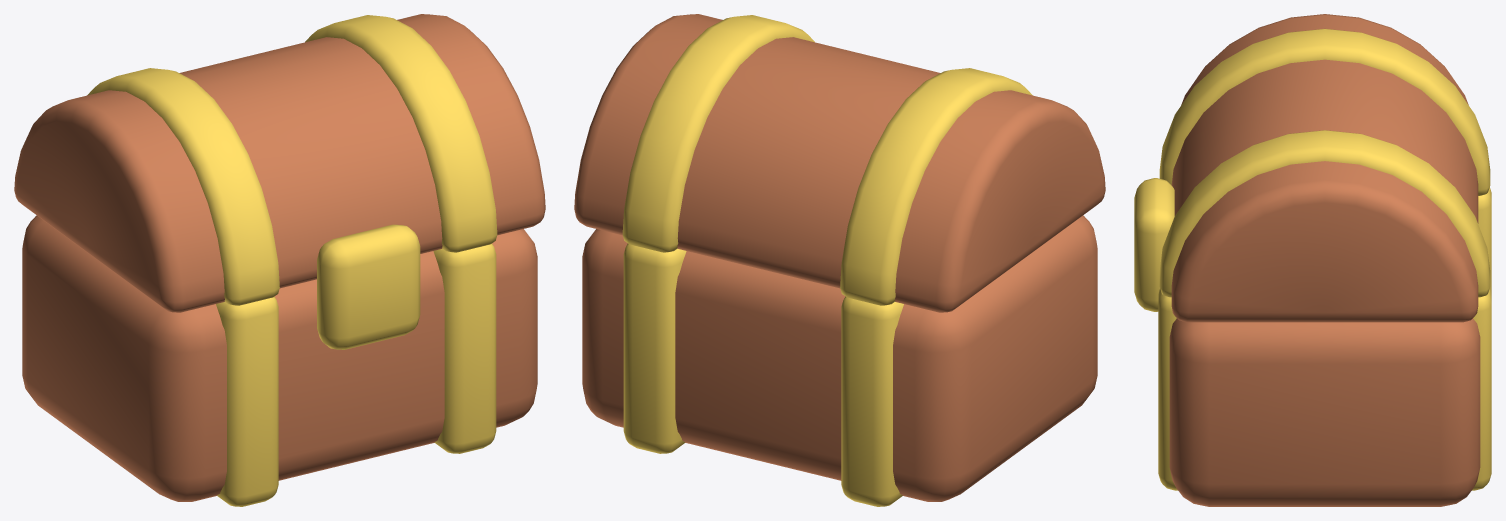
File: chest_toy.glb
3 renders of one model, left to right at view 1: azimuth 30°, elevation 25°; view 2: azimuth 150°, elevation 25°; view 3: azimuth 270°, elevation 25°, orthographic. The views are drawn at different scales.
Parts seen in each view (by area): view 1: Toy_Lid, Toy_Body, Toy_GoldTrim; view 2: Toy_Lid, Toy_Body, Toy_GoldTrim; view 3: Toy_Lid, Toy_Body, Toy_GoldTrim.
Part boxes in pixels (<box>): Toy_Lid: <box>14,14,545,312</box>; Toy_Body: <box>22,215,537,501</box>; Toy_GoldTrim: <box>87,15,497,506</box>; Toy_Lid: <box>574,14,1105,312</box>; Toy_Body: <box>582,215,1097,501</box>; Toy_GoldTrim: <box>622,15,1032,506</box>; Toy_Lid: <box>1171,14,1478,322</box>; Toy_Body: <box>1169,318,1480,506</box>; Toy_GoldTrim: <box>1134,28,1491,490</box>.
Size of the model in its own units: 3 by 2.7 by 2.53.
